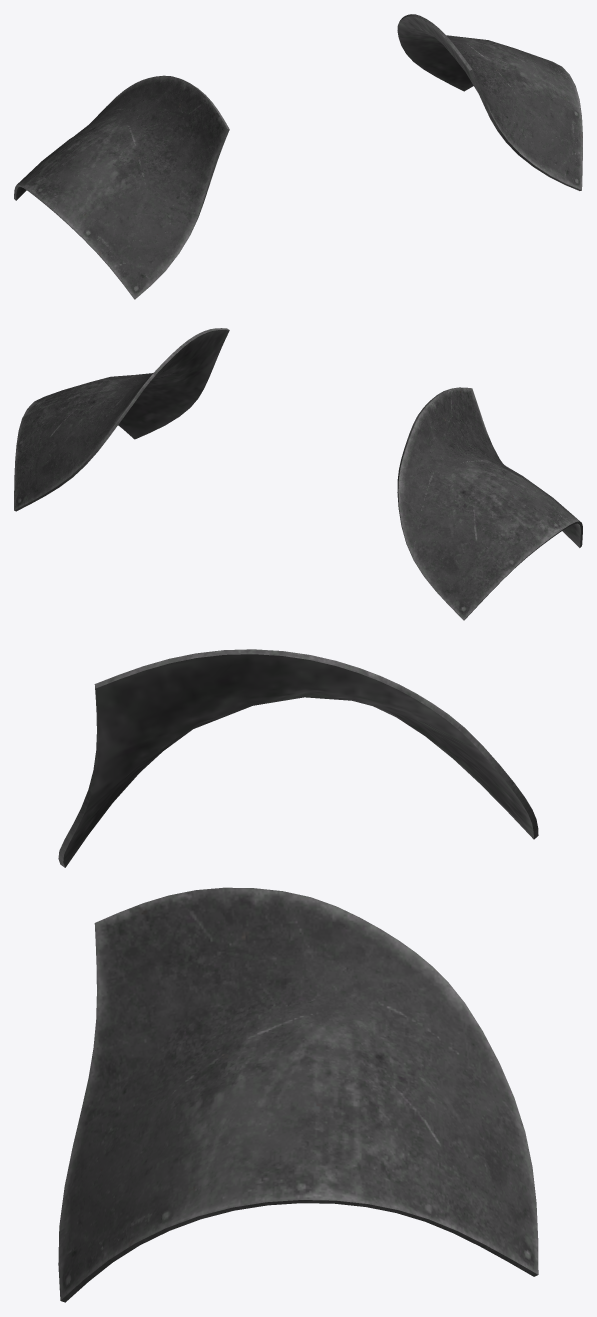
Rendered from sk_uruk_hai_pauldron_light_a1.fbx.
The picture shows the model from 3 angles, top to bottom: view 1: azimuth 30°, elevation 25°; view 2: azimuth 150°, elevation 25°; view 3: azimuth 270°, elevation 25°; orthographic projection. The views are drawn at different scales.
Parts seen in each view (by area): view 1: sk_uruk_hai_pauldron_light_a1; view 2: sk_uruk_hai_pauldron_light_a1; view 3: sk_uruk_hai_pauldron_light_a1.
Part boxes in pixels (x1,y1,x2,y2): sk_uruk_hai_pauldron_light_a1: (14, 14, 582, 299); sk_uruk_hai_pauldron_light_a1: (14, 328, 582, 620); sk_uruk_hai_pauldron_light_a1: (58, 649, 538, 1302).
Size of the model in its own units: 0.5959 by 0.2349 by 0.171.
Materials: 1 (1 with a texture image).
